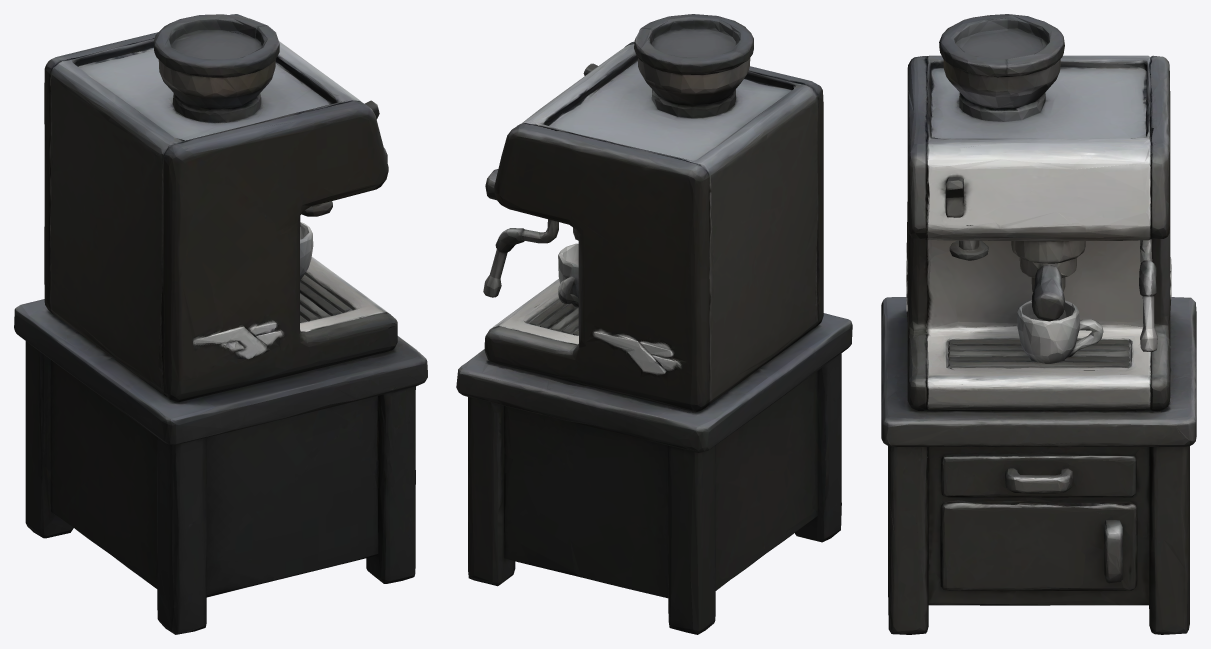
Rendered from coffee-machine-t1.glb.
3 renders of one model, left to right at view 1: azimuth 30°, elevation 25°; view 2: azimuth 150°, elevation 25°; view 3: azimuth 270°, elevation 25°, orthographic. The views are drawn at different scales.
Visible parts, largest first — view 1: coffee-machine-t1; view 2: coffee-machine-t1; view 3: coffee-machine-t1.
Part boxes in pixels (x1,y1,x2,y2): coffee-machine-t1: [14, 14, 427, 634]; coffee-machine-t1: [456, 14, 852, 634]; coffee-machine-t1: [881, 14, 1196, 634].
Bounding box in the file's own units: 0.8455 × 1.45 × 0.7841.
Materials: 1 (1 with a texture image).
